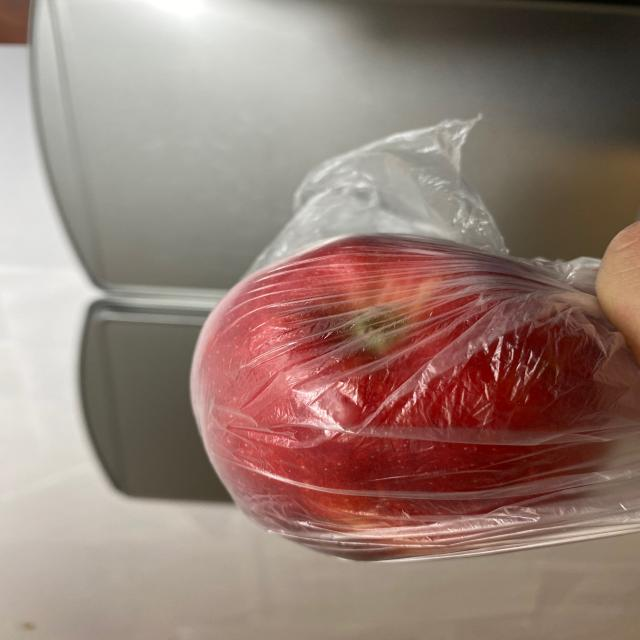apple: (180, 230, 614, 570)
